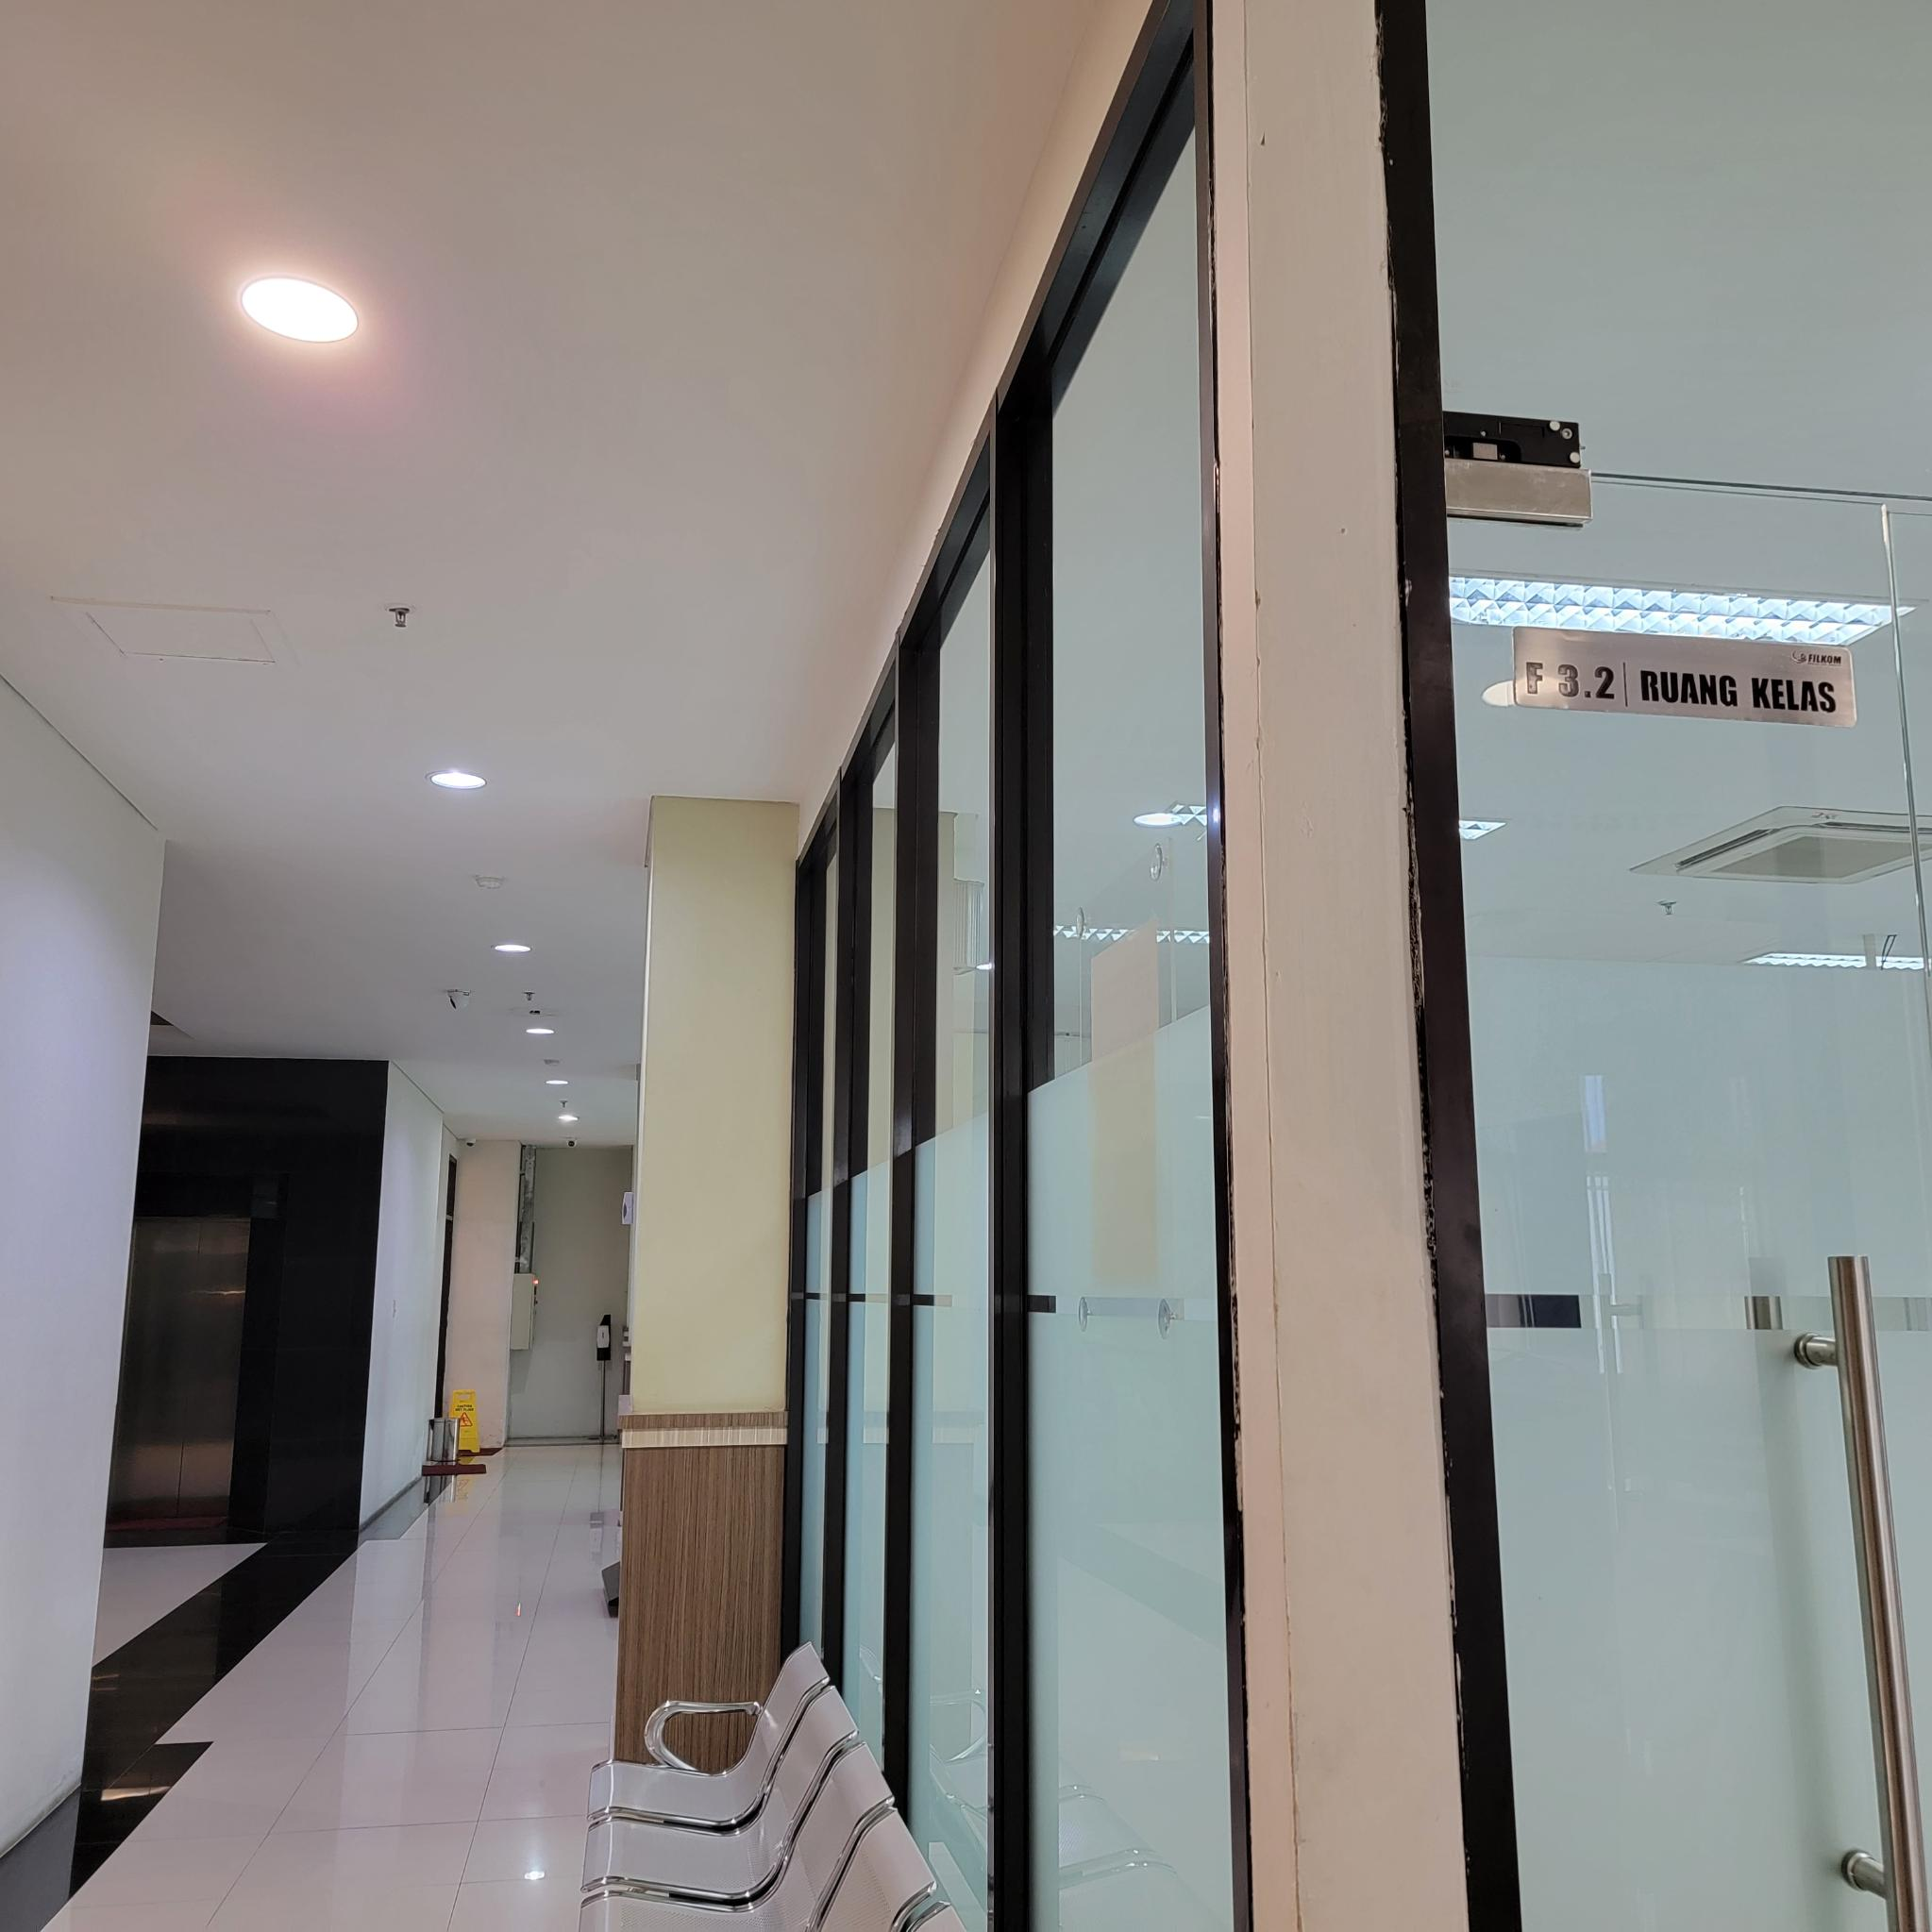plate: (1514, 626, 1858, 731)
